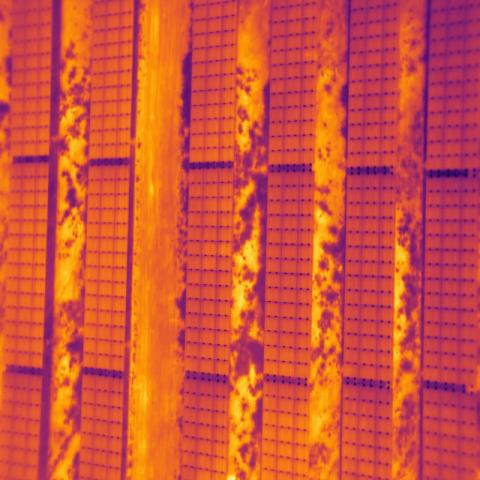fault: (216, 240, 232, 256)
